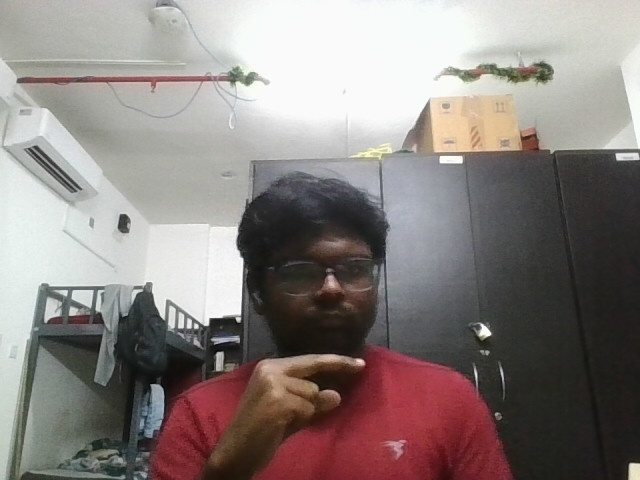No: (199, 342, 386, 470)
